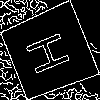H: (24, 26, 80, 77)
